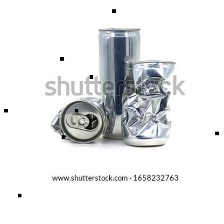can: (94, 15, 146, 141), (121, 52, 185, 151), (46, 93, 106, 146)
